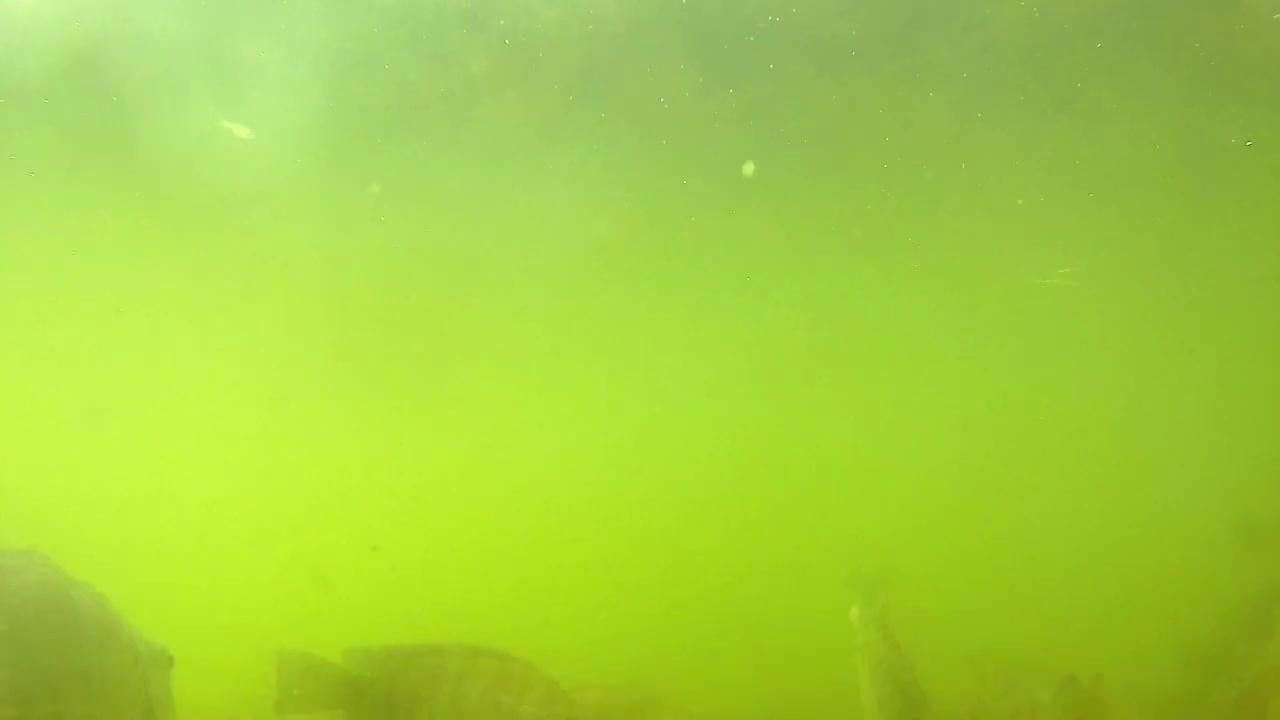Tilapia: (277, 620, 568, 720)
